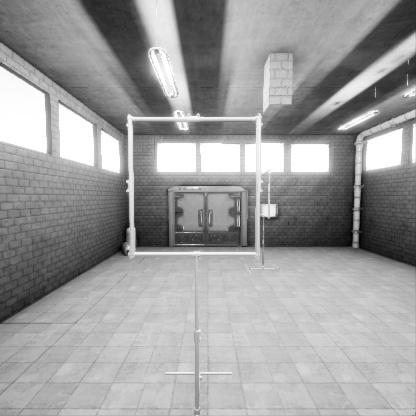gate: (137, 168, 269, 299), (258, 199, 270, 248)
